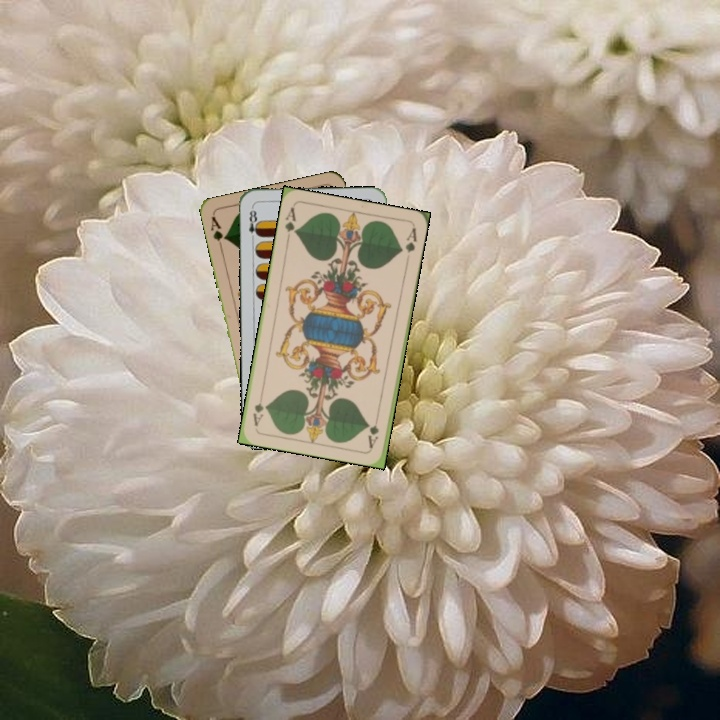E8: (245, 203, 262, 244)
GA: (207, 212, 229, 252), (281, 203, 299, 244), (364, 410, 382, 450)
